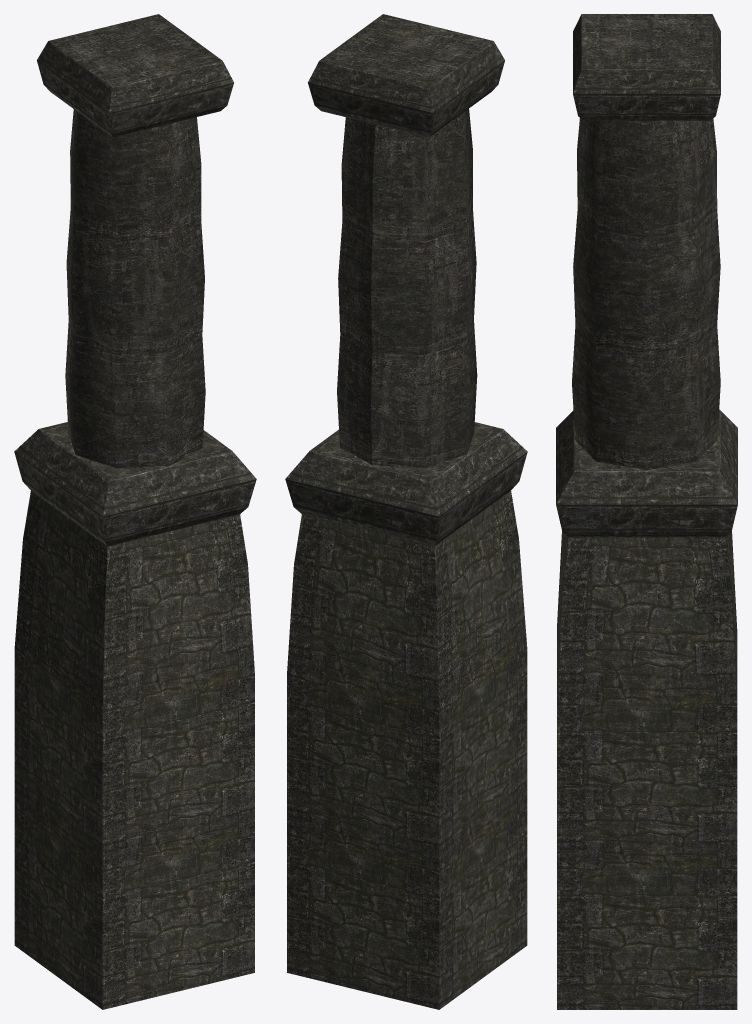
The model's file is eso_gu5_StatuePillar2-transformed.glb.
The picture shows the model from 3 angles, left to right: view 1: azimuth 30°, elevation 25°; view 2: azimuth 150°, elevation 25°; view 3: azimuth 270°, elevation 25°; orthographic projection. The views are drawn at different scales.
Visible parts, largest first — view 1: default; view 2: default; view 3: default.
Boxes of the visible parts, box(x1,y1,x2,y2) form: default: box(14, 14, 256, 1009); default: box(285, 14, 527, 1009); default: box(556, 14, 737, 1009).
Size of the model in its own units: 1.7 by 9.57 by 1.7.
Materials: 1 (1 with a texture image).
